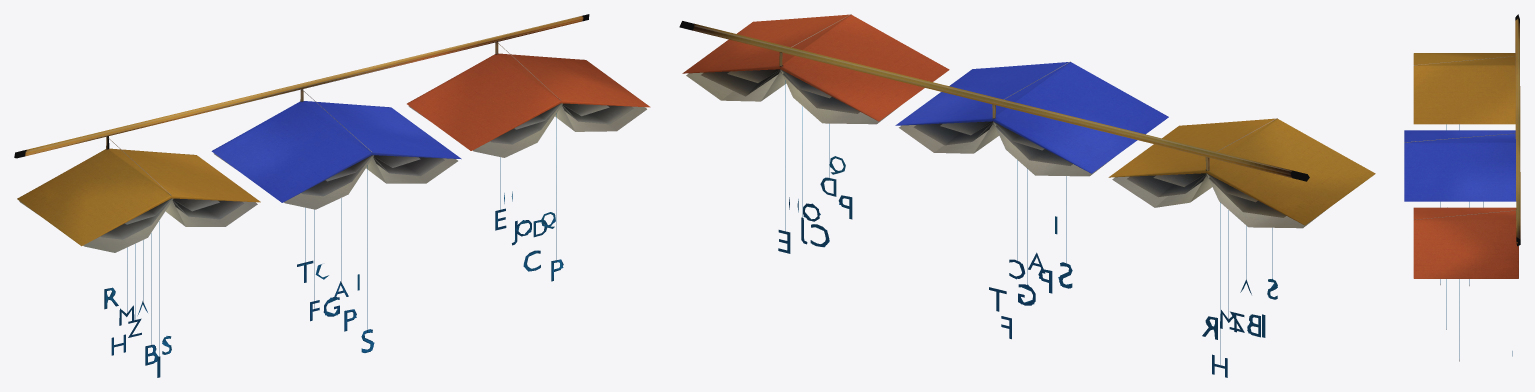
The model's file is HangingBook_LOD3.glb.
The picture shows the model from 3 angles, left to right: view 1: azimuth 30°, elevation 25°; view 2: azimuth 150°, elevation 25°; view 3: azimuth 270°, elevation 25°; orthographic projection. The views are drawn at different scales.
Parts seen in each view (by area): view 1: Hanging Books_PROCESSED.001_LOD3; view 2: Hanging Books_PROCESSED.001_LOD3; view 3: Hanging Books_PROCESSED.001_LOD3.
Boxes of the visible parts, <box> form: Hanging Books_PROCESSED.001_LOD3: <box>14,14,650,377</box>; Hanging Books_PROCESSED.001_LOD3: <box>679,14,1375,377</box>; Hanging Books_PROCESSED.001_LOD3: <box>1404,14,1520,361</box>.
Bounding box in the file's own units: 15.3 × 5.84 × 3.32.
Materials: 1 (1 with a texture image).
